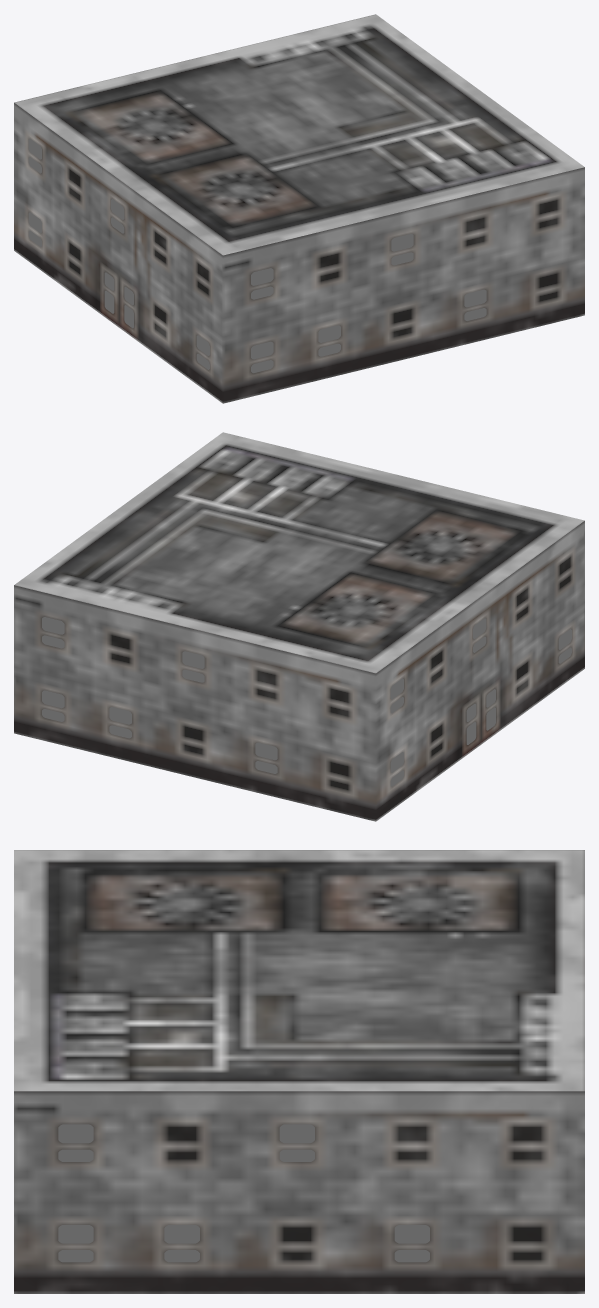
Rendered from city2storyb.glb.
3 views of the same model, one above another, from view 1: azimuth 30°, elevation 25°; view 2: azimuth 150°, elevation 25°; view 3: azimuth 270°, elevation 25° (orthographic). The views are drawn at different scales.
Visible parts, largest first — view 1: City2StoryA, LitWin_City2Story; view 2: City2StoryA, LitWin_City2Story; view 3: City2StoryA, LitWin_City2Story.
Part boxes in pixels (x1,y1,x2,y2): City2StoryA: (14, 14, 584, 403); LitWin_City2Story: (28, 138, 486, 373); City2StoryA: (14, 432, 584, 821); LitWin_City2Story: (42, 617, 571, 786); City2StoryA: (14, 850, 584, 1293); LitWin_City2Story: (58, 1124, 429, 1262).
Size of the model in its own units: 17.76 by 6.95 by 17.76.
1 material, 1 textured.
